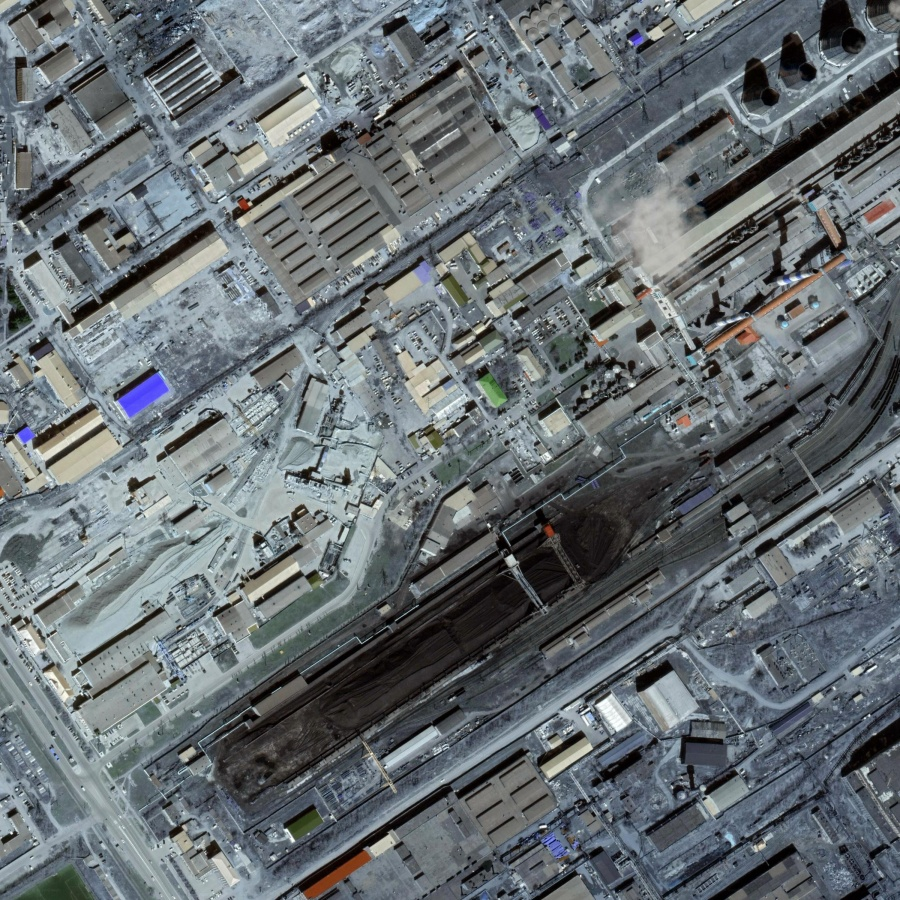PowerPlant: (190, 448, 663, 818)
